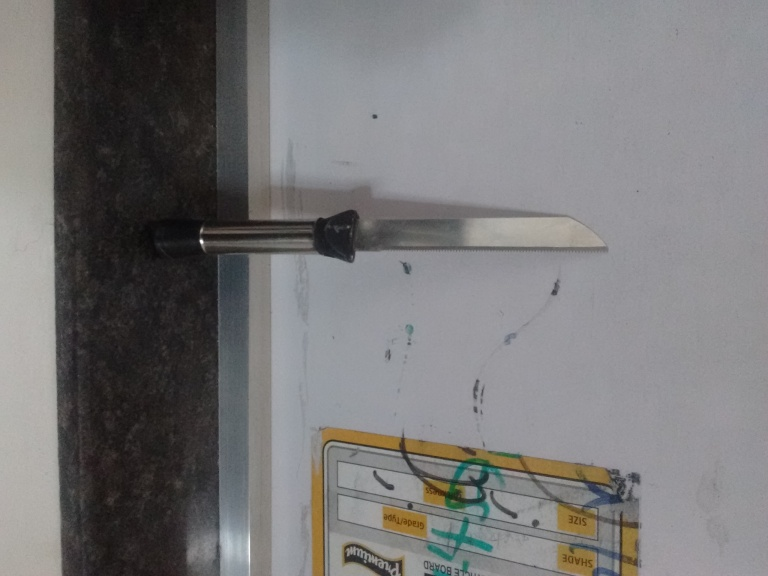knife: (142, 210, 612, 265)
